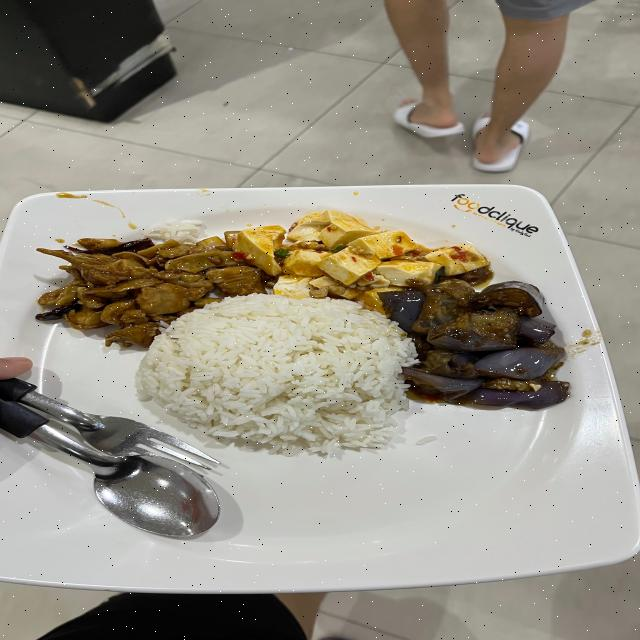Chicken: (38, 237, 270, 347)
Non green veg: (379, 279, 569, 409)
Rice: (136, 294, 416, 455)
Tofu: (227, 210, 489, 301)
